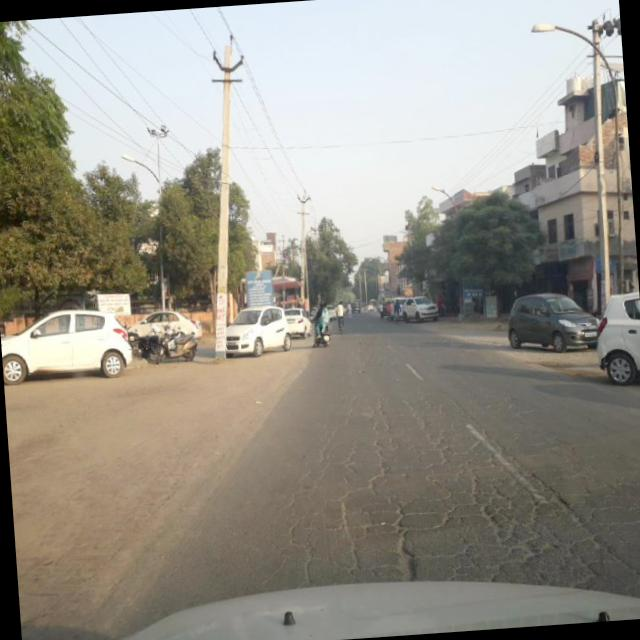crack: (286, 436, 634, 588), (313, 378, 512, 459)
